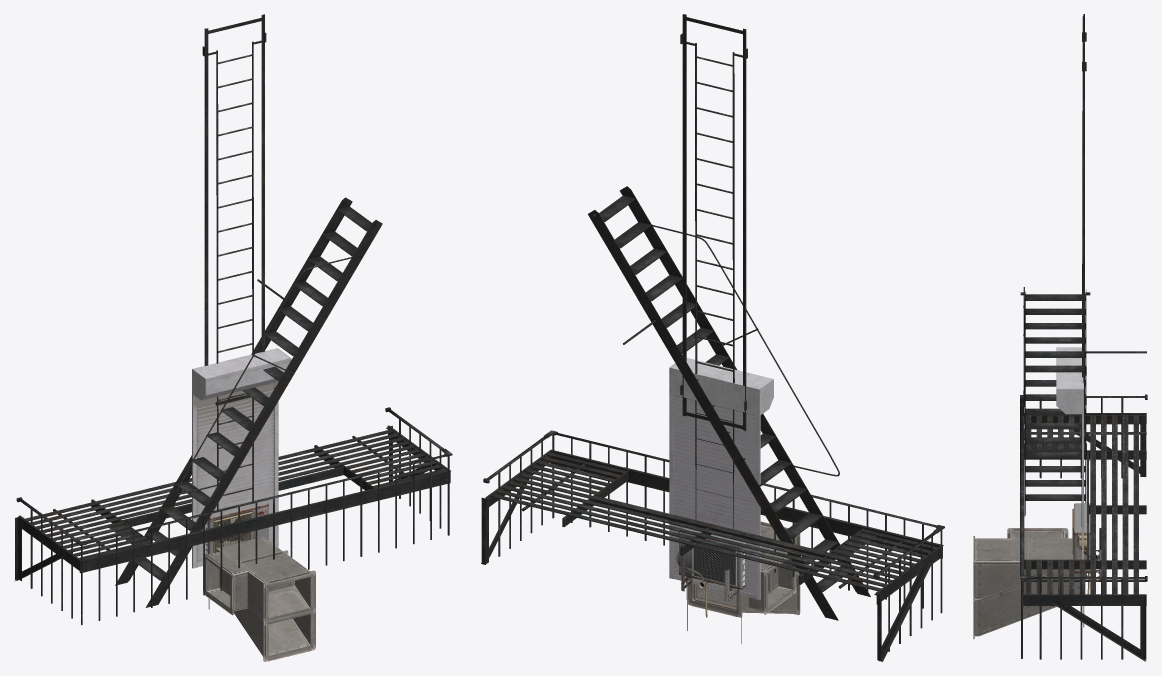
Rendered from industrial-detail-kit.glb.
3 renders of one model, left to right at view 1: azimuth 30°, elevation 25°; view 2: azimuth 150°, elevation 25°; view 3: azimuth 270°, elevation 25°, orthographic. The views are drawn at different scales.
Visible parts, largest first — view 1: industrial_fire_escape_platform, industrial_fire_escape_stairs, industrial_rollershutter, industrial_fire_escape_railing, industrial_fire_escape_ladder, industrial_duct_transition, industrial_duct_double, industrial_duct_corner, industrial_aircon_rusted, industrial_duct_straight; view 2: industrial_fire_escape_platform, industrial_rollershutter, industrial_fire_escape_stairs, industrial_fire_escape_ladder, industrial_fire_escape_railing, industrial_aircon_rusted, industrial_duct_corner, industrial_duct_double, industrial_duct_vent; view 3: industrial_fire_escape_platform, industrial_fire_escape_stairs, industrial_duct_double, industrial_duct_transition, industrial_fire_escape_railing, industrial_rollershutter, industrial_duct_corner, industrial_fire_escape_ladder, industrial_aircon_rusted, industrial_duct_straight.
Part boxes in pixels (x1,y1,x2,y2): industrial_fire_escape_platform: (14, 425, 450, 581); industrial_fire_escape_stairs: (115, 197, 382, 607); industrial_rollershutter: (192, 348, 291, 568); industrial_fire_escape_railing: (16, 407, 452, 624); industrial_fire_escape_ladder: (202, 14, 266, 509); industrial_duct_transition: (220, 585, 315, 661); industrial_duct_double: (217, 537, 315, 624); industrial_duct_corner: (203, 548, 294, 615); industrial_aircon_rusted: (205, 500, 268, 554); industrial_duct_straight: (216, 537, 288, 594); industrial_fire_escape_platform: (481, 449, 943, 661); industrial_rollershutter: (669, 358, 773, 600); industrial_fire_escape_stairs: (588, 186, 870, 620); industrial_fire_escape_ladder: (680, 14, 747, 540); industrial_fire_escape_railing: (483, 430, 944, 651); industrial_aircon_rusted: (676, 528, 746, 617); industrial_duct_corner: (692, 550, 796, 614); industrial_duct_double: (689, 521, 800, 611); industrial_duct_vent: (692, 583, 736, 610); industrial_fire_escape_platform: (1021, 412, 1146, 661); industrial_fire_escape_stairs: (1020, 287, 1146, 516); industrial_duct_double: (973, 535, 1028, 601); industrial_duct_transition: (973, 569, 1079, 639); industrial_fire_escape_railing: (1020, 394, 1147, 659); industrial_rollershutter: (1056, 347, 1083, 559); industrial_duct_corner: (1007, 528, 1071, 562); industrial_fire_escape_ladder: (1081, 14, 1086, 526); industrial_aircon_rusted: (1072, 503, 1101, 594); industrial_duct_straight: (1028, 535, 1073, 576).
Size of the model in its own units: 4.79 by 7.17 by 1.89.
Materials: 7 (7 with a texture image).
